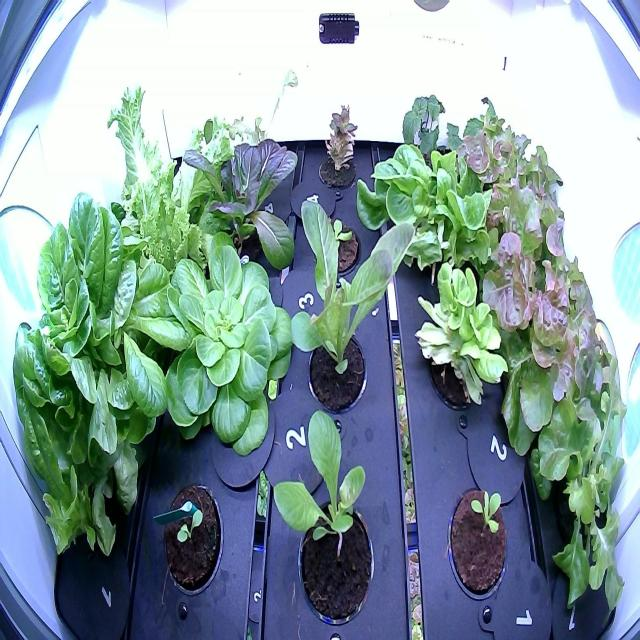Ready: (7, 185, 198, 588)
young: (140, 227, 299, 461), (270, 190, 420, 429), (266, 406, 380, 634), (350, 139, 506, 291), (170, 129, 303, 297), (406, 250, 512, 424), (150, 475, 228, 608), (443, 477, 512, 611), (304, 203, 362, 288)
